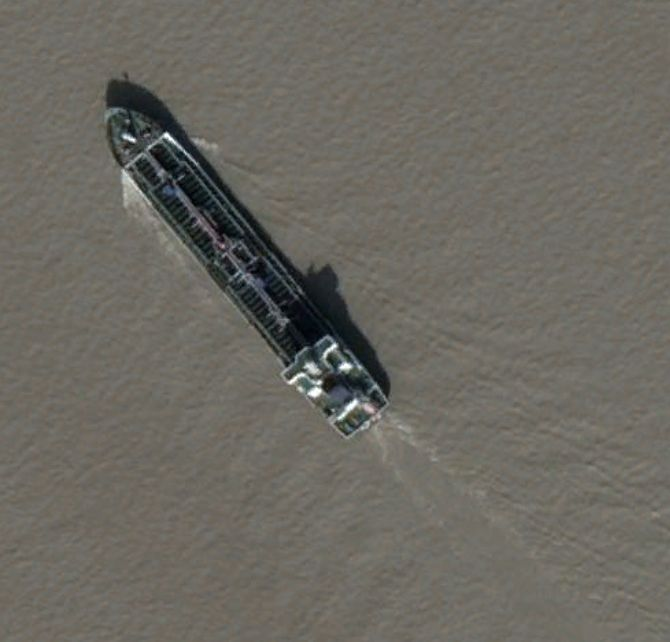boat: (100, 97, 395, 441)
